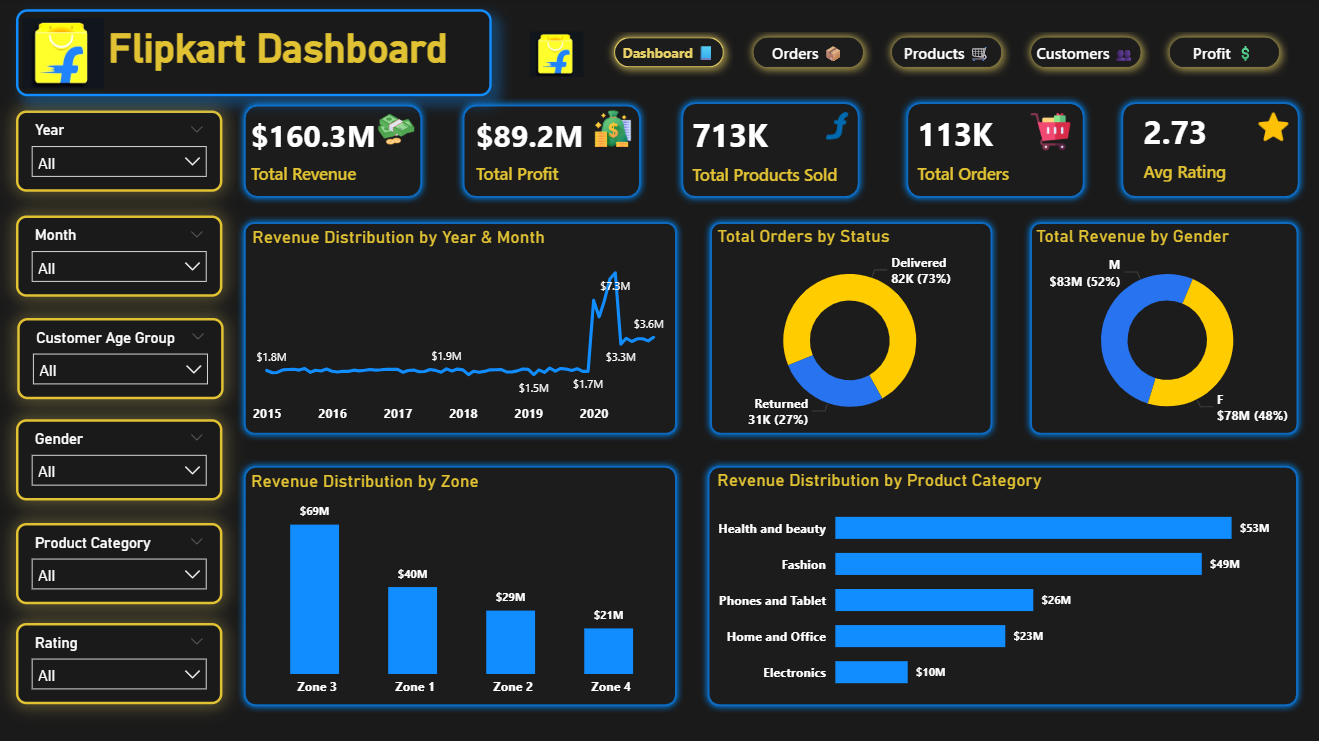

What the dashboard file says about the page in this screenshot:
{"tool":"powerbi","page":{"name":"Dashboard 📘","canvas":[1280,720],"ordinal":1},"visuals":[{"type":"shape","box":[680.4,445.4,582.5,244.7],"z":0},{"type":"shape","box":[1079.3,94.2,184.8,105.2],"z":1000},{"type":"shape","box":[232.5,210.5,430.7,217.8],"z":2000},{"type":"shape","box":[654.7,94.2,184.8,105.2],"z":3000},{"type":"shape","box":[872.5,94.2,184.8,105.2],"z":4000},{"type":"shape","box":[444.2,96.7,184.8,102.8],"z":5000},{"type":"shape","box":[232.5,96.7,184.8,102.8],"z":6000},{"type":"cardVisual","fields":{"Data":["_Measures.Total Revenue"]},"box":[221.5,93,184.8,106.5],"z":7000},{"type":"cardVisual","fields":{"Data":["_Measures.Total Quantity"]},"box":[643.6,93.5,199.7,103.3],"z":8000},{"type":"cardVisual","fields":{"Data":["_Measures.Avg Rating"]},"box":[1078.1,89.3,184.8,106.5],"z":9000},{"type":"cardVisual","fields":{"Data":["_Measures.Total Orders"]},"box":[860.3,94.2,184.8,101.6],"z":10000},{"type":"cardVisual","fields":{"Data":["_Measures.Total Profit"]},"box":[434.4,95.4,177.4,101.6],"z":11000},{"type":"lineChart","title":"Revenue Distribution by Year & Month","fields":{"Y":["_Measures.Total Revenue"],"Category":["Data.OrderDate.Variation.Date Hierarchy.Year","Data.OrderDate.Variation.Date Hierarchy.Month"]},"box":[243,220.3,411.4,198.7],"z":13000},{"type":"barChart","title":"Revenue Distribution by Product Category","fields":{"Category":["Data.Product Category"],"Y":["_Measures.Total Revenue"]},"box":[691.1,454.4,558.2,227],"z":14000},{"type":"shape","box":[682.8,210.5,285.1,217.8],"z":15000},{"type":"donutChart","title":"Total Orders by Status","fields":{"Y":["_Measures.Total Orders"],"Category":["Data.Status"]},"box":[691.1,219,265.8,203],"z":16000},{"type":"shape","box":[991.2,210.5,271.7,217.8],"z":17000},{"type":"donutChart","title":"Total Revenue by Gender","fields":{"Category":["Data.Customer Gender"],"Y":["_Measures.Total Revenue"]},"box":[998.7,219,263.3,202.5],"z":18000},{"type":"shape","box":[232.5,445.4,430.7,244.7],"z":19000},{"type":"columnChart","title":" Revenue Distribution by Zone","fields":{"Category":["Data.Zone"],"Y":["_Measures.Total Revenue"]},"box":[241.8,455.7,421.5,226.6],"z":20000},{"type":"slicer","fields":{"Values":["Data.Year"]},"box":[19.3,108.6,199.1,78.4],"z":21000},{"type":"slicer","fields":{"Values":["Data.Month"]},"box":[19.3,209.9,199.1,78.4],"z":22000},{"type":"slicer","fields":{"Values":["Data.Age Group"]},"box":[20.5,308.8,199.1,78.4],"z":23000},{"type":"slicer","fields":{"Values":["Data.Customer Gender"]},"box":[19.3,406.6,199.1,78.4],"z":24000},{"type":"slicer","fields":{"Values":["Data.Product Category"]},"box":[19.3,506.7,199.1,78.4],"z":25000},{"type":"slicer","fields":{"Values":["Data.Rating"]},"box":[19.3,603.2,199.1,78.4],"z":26000},{"type":"pageNavigator","box":[587.8,29.3,661.8,47.5],"z":27000},{"type":"textbox","box":[19.5,11.2,459.3,83.8],"z":27001},{"type":"image","box":[25.1,16.8,79.6,72.6],"z":27002},{"type":"image","box":[515.2,23.7,51.7,60],"z":27003},{"type":"actionButton","box":[515.2,29.3,51.7,54.5],"z":27004}]}

Visuals, with their boxes in screenshot pixels (x1, y1, x2, y2), scaled from the page's 1280x720 canvas onto the 1319x741 screenshot:
shape: select_region(701, 458, 1301, 710)
shape: select_region(1112, 97, 1303, 205)
shape: select_region(240, 217, 683, 441)
shape: select_region(675, 97, 865, 205)
shape: select_region(899, 97, 1090, 205)
shape: select_region(458, 100, 648, 205)
shape: select_region(240, 100, 430, 205)
cardVisual - _Measures.Total Revenue: select_region(228, 96, 419, 205)
cardVisual - _Measures.Total Quantity: select_region(663, 96, 869, 203)
cardVisual - _Measures.Avg Rating: select_region(1111, 92, 1301, 202)
cardVisual - _Measures.Total Orders: select_region(887, 97, 1077, 202)
cardVisual - _Measures.Total Profit: select_region(448, 98, 630, 203)
"Revenue Distribution by Year & Month" lineChart: select_region(250, 227, 674, 431)
"Revenue Distribution by Product Category" barChart: select_region(712, 468, 1287, 701)
shape: select_region(704, 217, 997, 441)
"Total Orders by Status" donutChart: select_region(712, 225, 986, 434)
shape: select_region(1021, 217, 1301, 441)
"Total Revenue by Gender" donutChart: select_region(1029, 225, 1300, 434)
shape: select_region(240, 458, 683, 710)
" Revenue Distribution by Zone" columnChart: select_region(249, 469, 684, 702)
slicer - Data.Year: select_region(20, 112, 225, 192)
slicer - Data.Month: select_region(20, 216, 225, 297)
slicer - Data.Age Group: select_region(21, 318, 226, 398)
slicer - Data.Customer Gender: select_region(20, 418, 225, 499)
slicer - Data.Product Category: select_region(20, 521, 225, 602)
slicer - Data.Rating: select_region(20, 621, 225, 701)
pageNavigator: select_region(606, 30, 1288, 79)
textbox: select_region(20, 12, 493, 98)
image: select_region(26, 17, 108, 92)
image: select_region(531, 24, 584, 86)
actionButton: select_region(531, 30, 584, 86)
